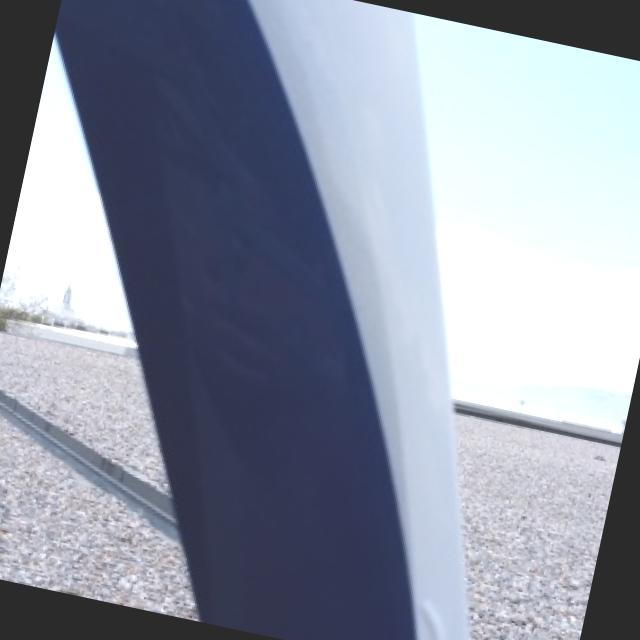healthy: (54, 0, 464, 640)
